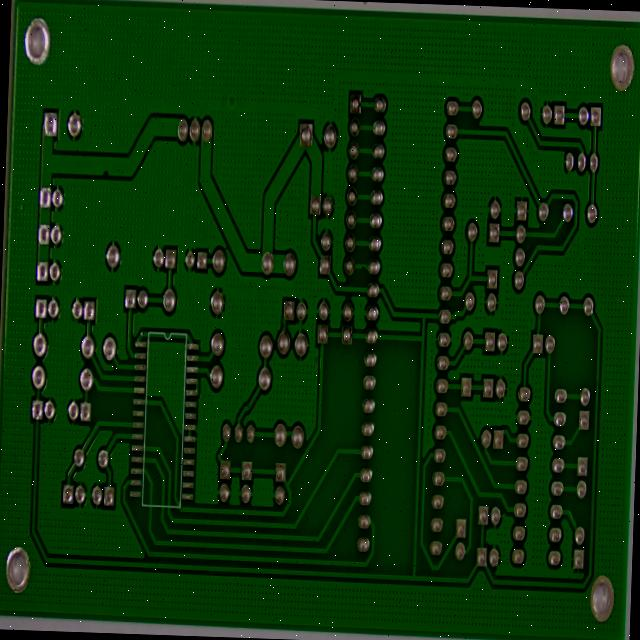mouse_bite: (103, 206, 117, 228), (378, 326, 388, 344)
